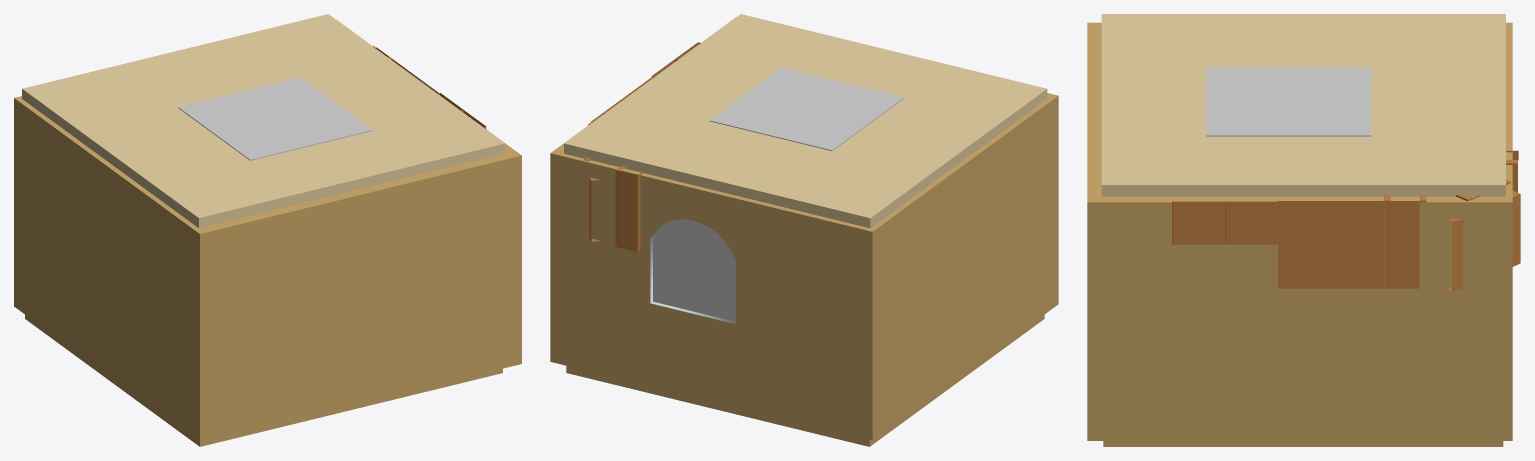
File: FloorPlan25_Backup.fbx
3 views of the same model, side by side, from view 1: azimuth 30°, elevation 25°; view 2: azimuth 150°, elevation 25°; view 3: azimuth 270°, elevation 25° (orthographic). The views are drawn at different scales.
Visible parts, largest first — view 1: Room.027, Ceiling.003, Floor.003; view 2: Room.027, Ceiling.003, Window, Floor.003, Cube.228; view 3: Room.027, Ceiling.003, Cube.228, Floor.003.
Boxes of the visible parts, x1=… form: Room.027: x1=14, y1=19, x2=521, y2=442; Ceiling.003: x1=22, y1=14, x2=504, y2=228; Floor.003: x1=25, y1=315, x2=502, y2=446; Room.027: x1=550, y1=17, x2=1058, y2=440; Ceiling.003: x1=564, y1=14, x2=1047, y2=228; Window: x1=653, y1=219, x2=735, y2=321; Floor.003: x1=566, y1=315, x2=1044, y2=446; Cube.228: x1=584, y1=42, x2=700, y2=252; Room.027: x1=1087, y1=22, x2=1512, y2=440; Ceiling.003: x1=1101, y1=14, x2=1505, y2=196; Cube.228: x1=1172, y1=150, x2=1520, y2=290; Floor.003: x1=1103, y1=441, x2=1503, y2=446.
Size of the model in its own units: 359 by 242 by 360.
